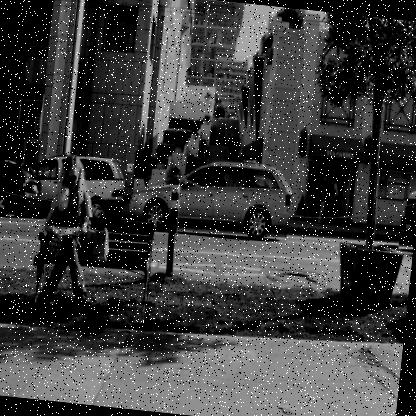Car: (127, 150, 294, 245), (22, 150, 127, 221), (0, 158, 51, 224), (397, 185, 415, 253)
